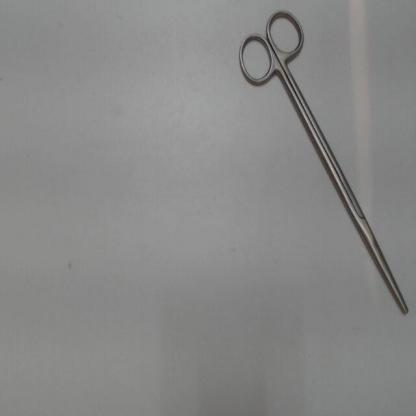9 Metzenbaum Scissors: (234, 6, 410, 318)
